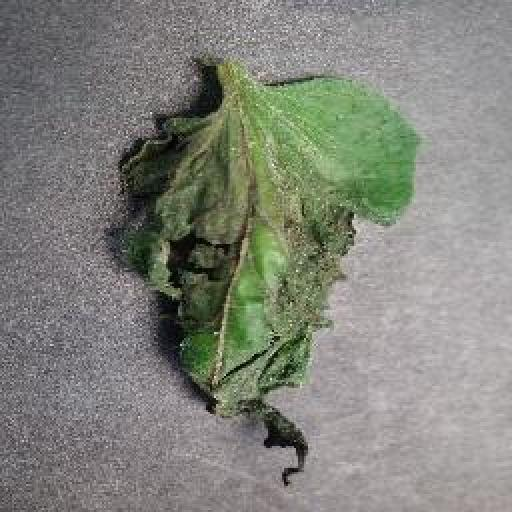Late Blight: (106, 72, 422, 487)
